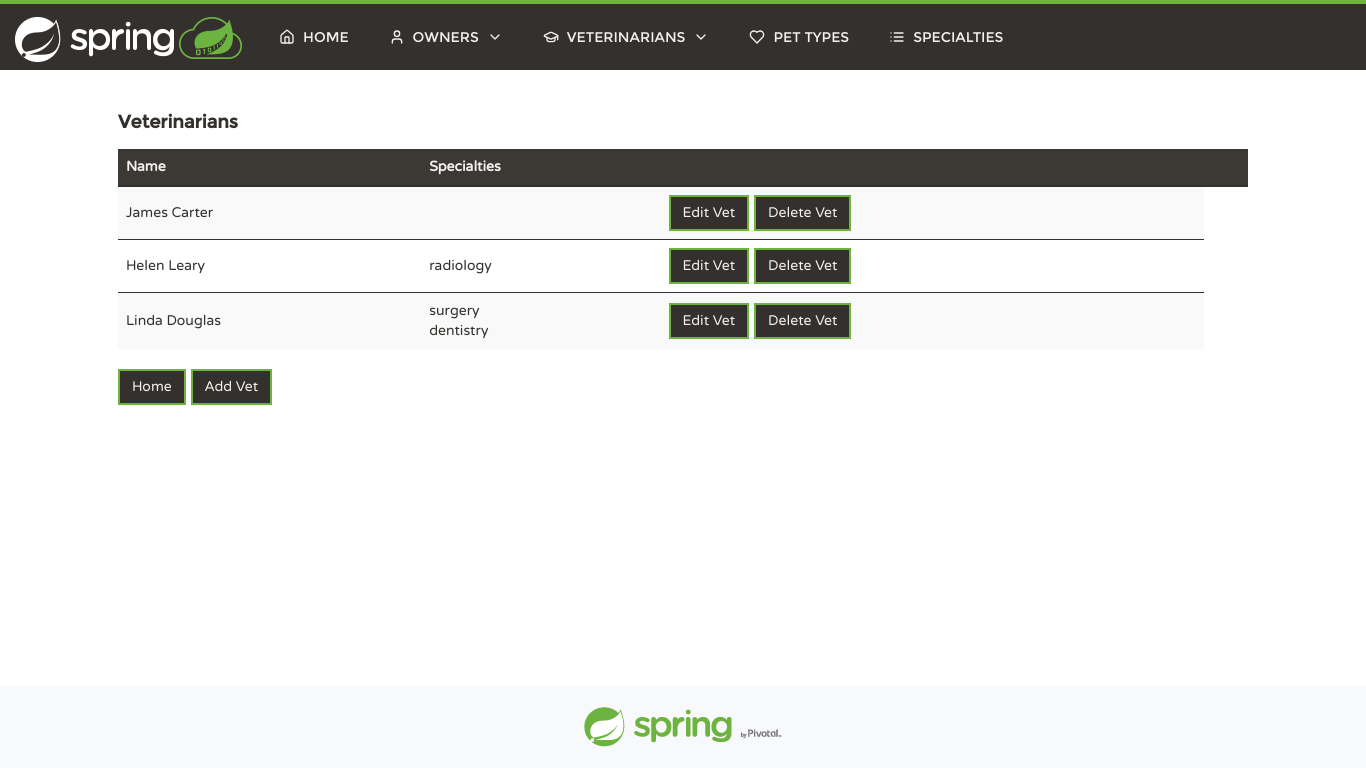
Test case: VetListPage › shows and dismisses a delete error
Expected: the text "James Carter" is shown, [118, 186, 421, 240]
Click the button "Delete Vet" in the row of "James". click: (803, 213)
box: [754, 195, 852, 231]
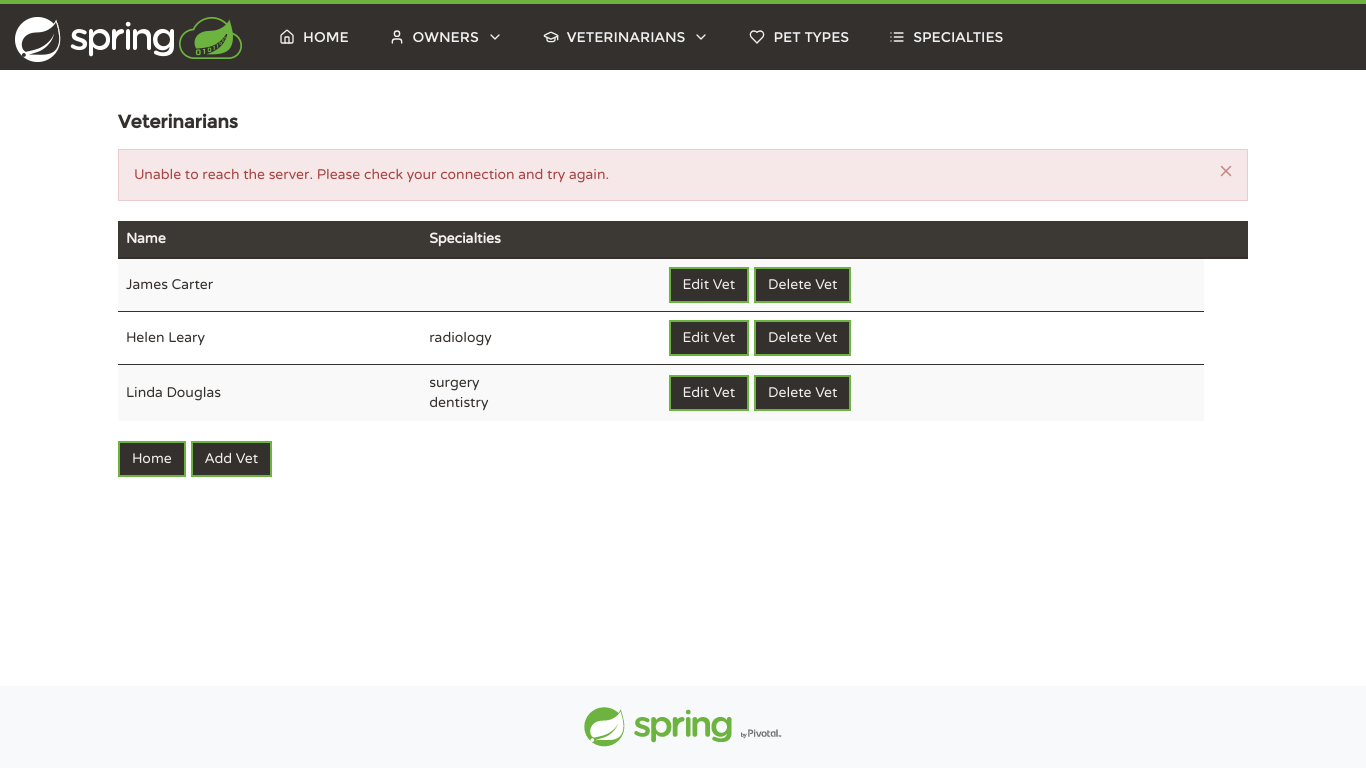
Expected: the message shows "Unable to reach the server", [134, 167, 609, 183]
Click the button named "Dismiss error". click: (1226, 171)
box: [1213, 158, 1239, 184]
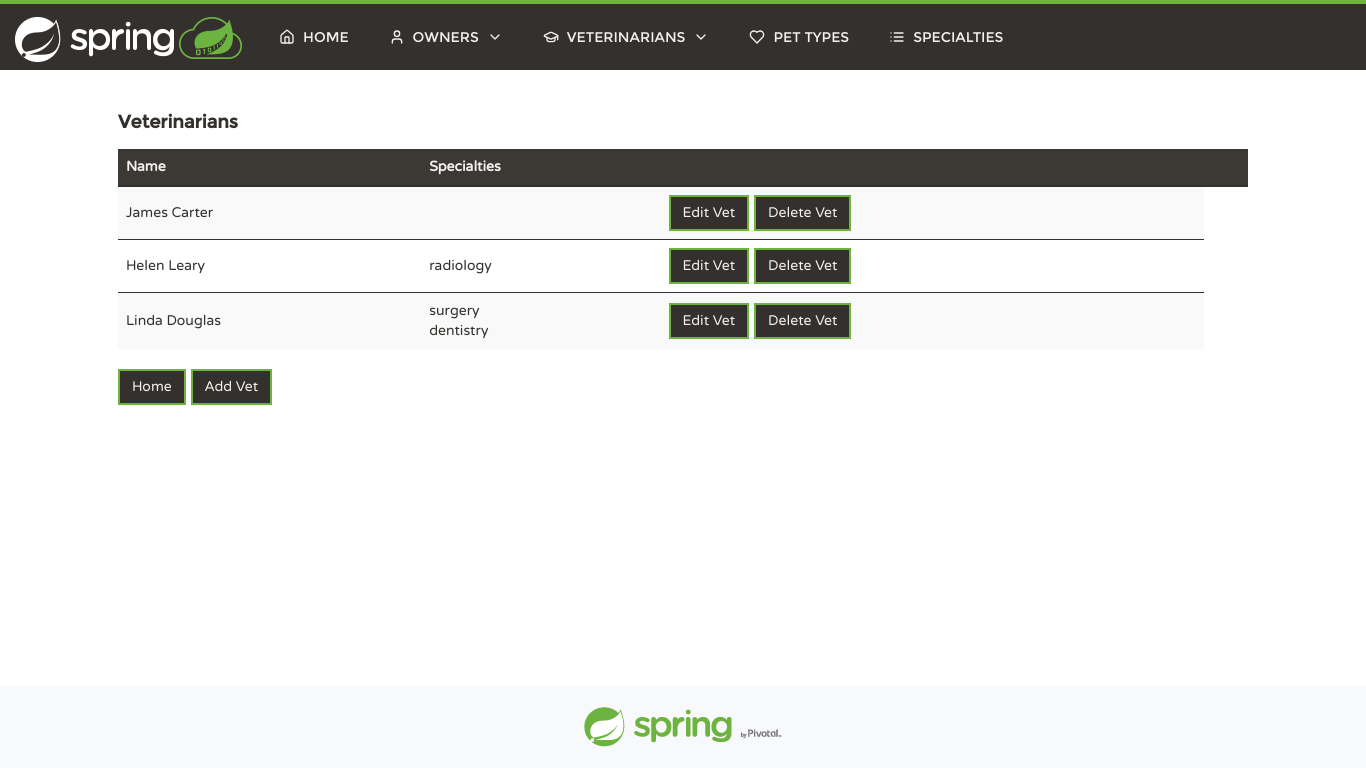
Expected: the message "Unable to reach the server. Please check your connection and try again." is gone
